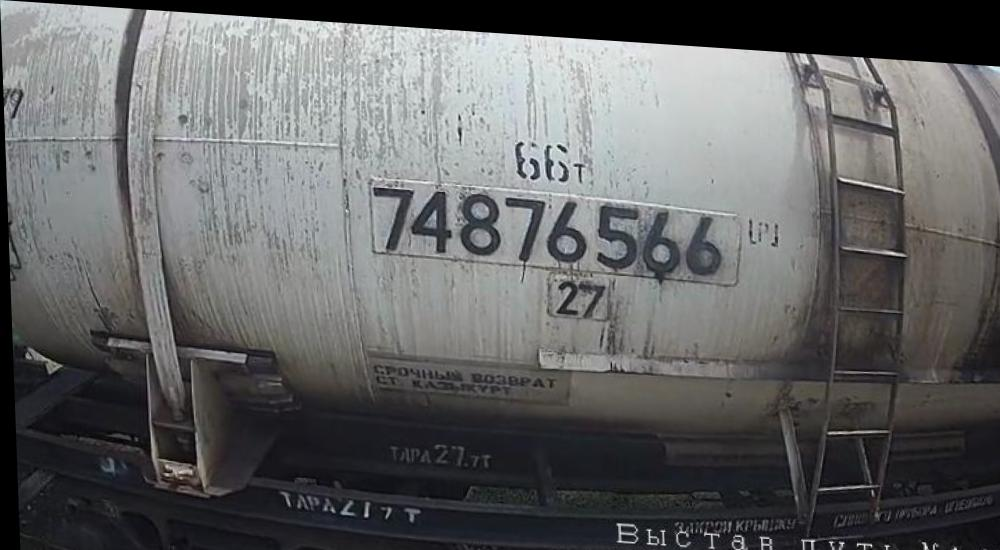Wagon-number: (369, 174, 726, 275)
